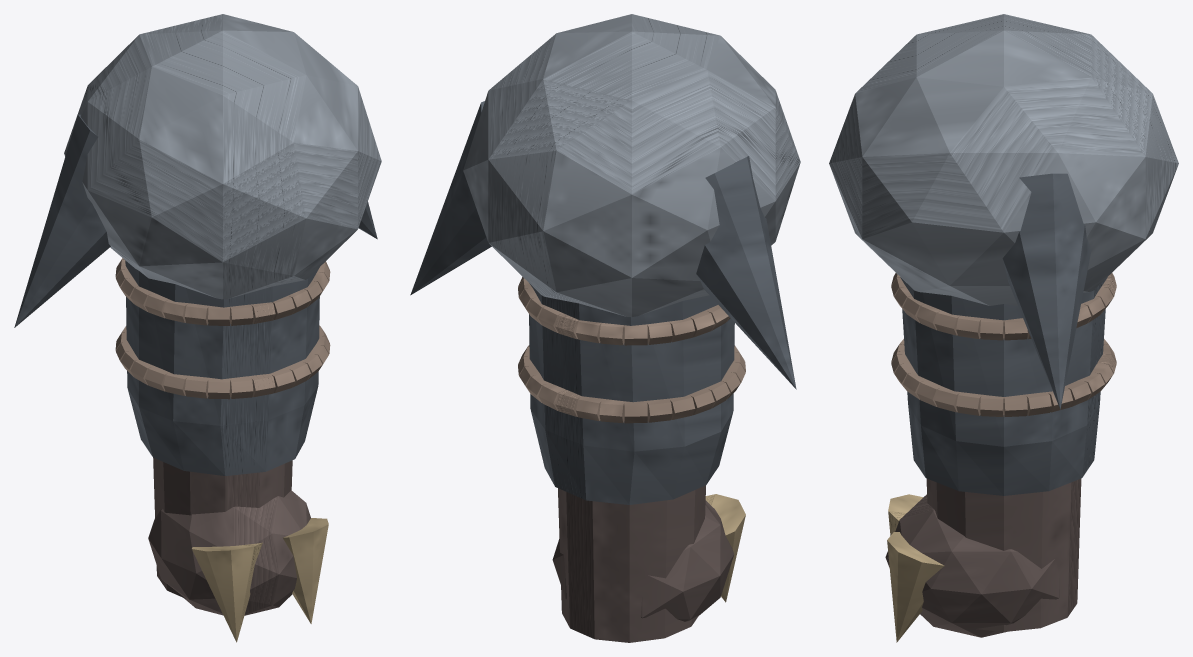
The model's file is hero_arm.glb.
3 views of the same model, side by side, from view 1: azimuth 30°, elevation 25°; view 2: azimuth 150°, elevation 25°; view 3: azimuth 270°, elevation 25° (orthographic). The views are drawn at different scales.
Visible parts, largest first — view 1: steel, iron, leather, bronze, gold; view 2: steel, iron, leather, bronze, gold; view 3: steel, iron, leather, bronze, gold.
Boxes of the visible parts, box(x1,y1,x2,y2) form: steel: box(64, 14, 381, 299); iron: box(14, 114, 377, 475); leather: box(148, 457, 310, 615); bronze: box(115, 258, 330, 399); gold: box(192, 518, 328, 642); steel: box(463, 14, 800, 316); iron: box(410, 101, 796, 504); leather: box(552, 485, 734, 642); bronze: box(518, 277, 745, 423); gold: box(705, 494, 745, 602); steel: box(829, 14, 1178, 305); iron: box(900, 173, 1107, 495); leather: box(885, 478, 1081, 637); bronze: box(891, 273, 1116, 416); gold: box(887, 494, 944, 642).
Bounding box in the file's own units: 0.78 × 1.17 × 0.62.
Materials: 5 (5 with a texture image).
